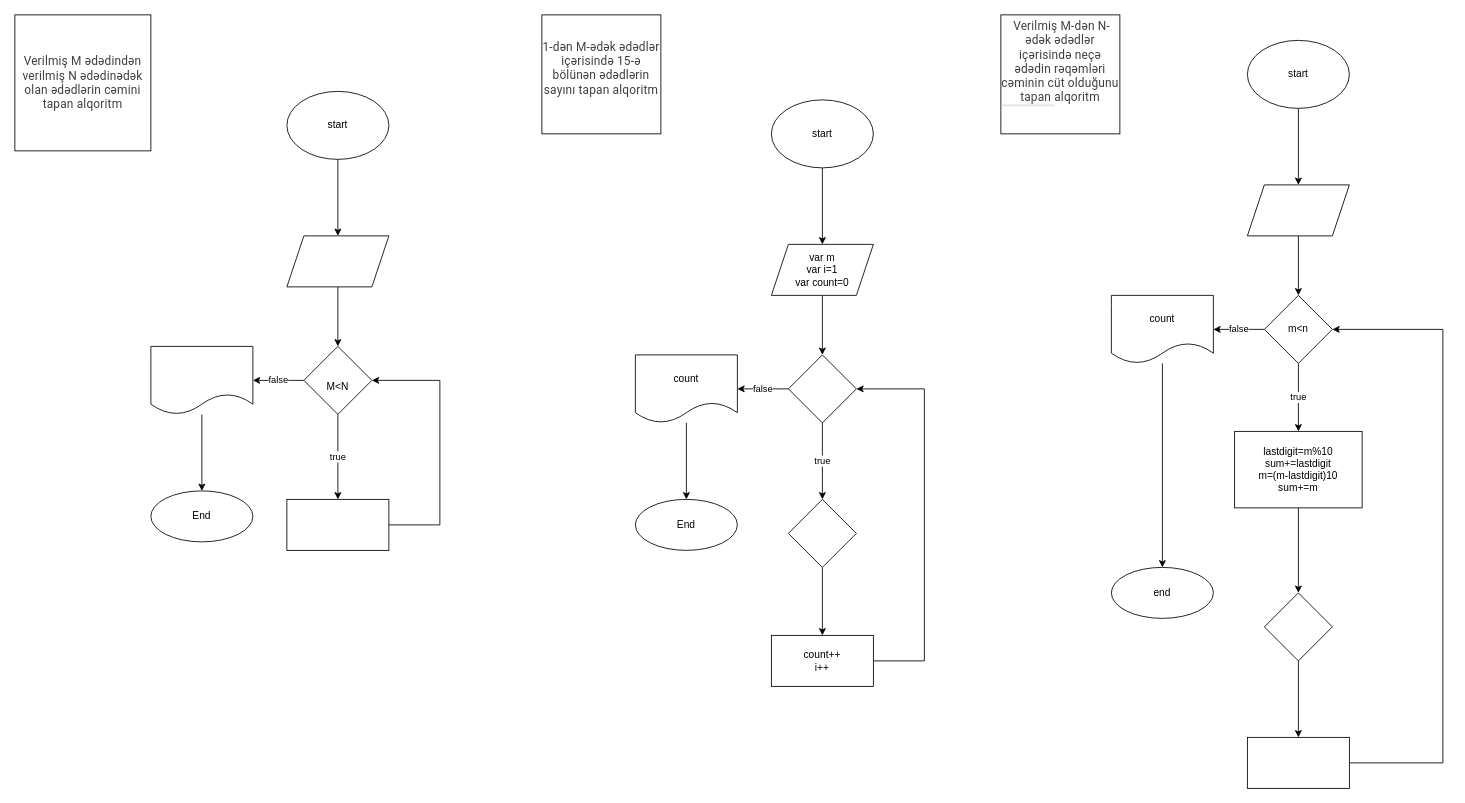
The diagram is 1465 pixels wide and 803 high, and some of its shapes have lost their labels. The centre of each missing label's shape, as x and y in pixels:
count++ m++: (x=1298, y=762)
i%15==0: (x=822, y=533)
i<m: (x=822, y=388)
sum: (x=201, y=380)
sum%2==0: (x=1298, y=626)
sum+=m m++: (x=337, y=524)
var m,n var count=0 var sum=0 var lastdigit: (x=1298, y=210)
var sum=0 var M,N: (x=337, y=261)
